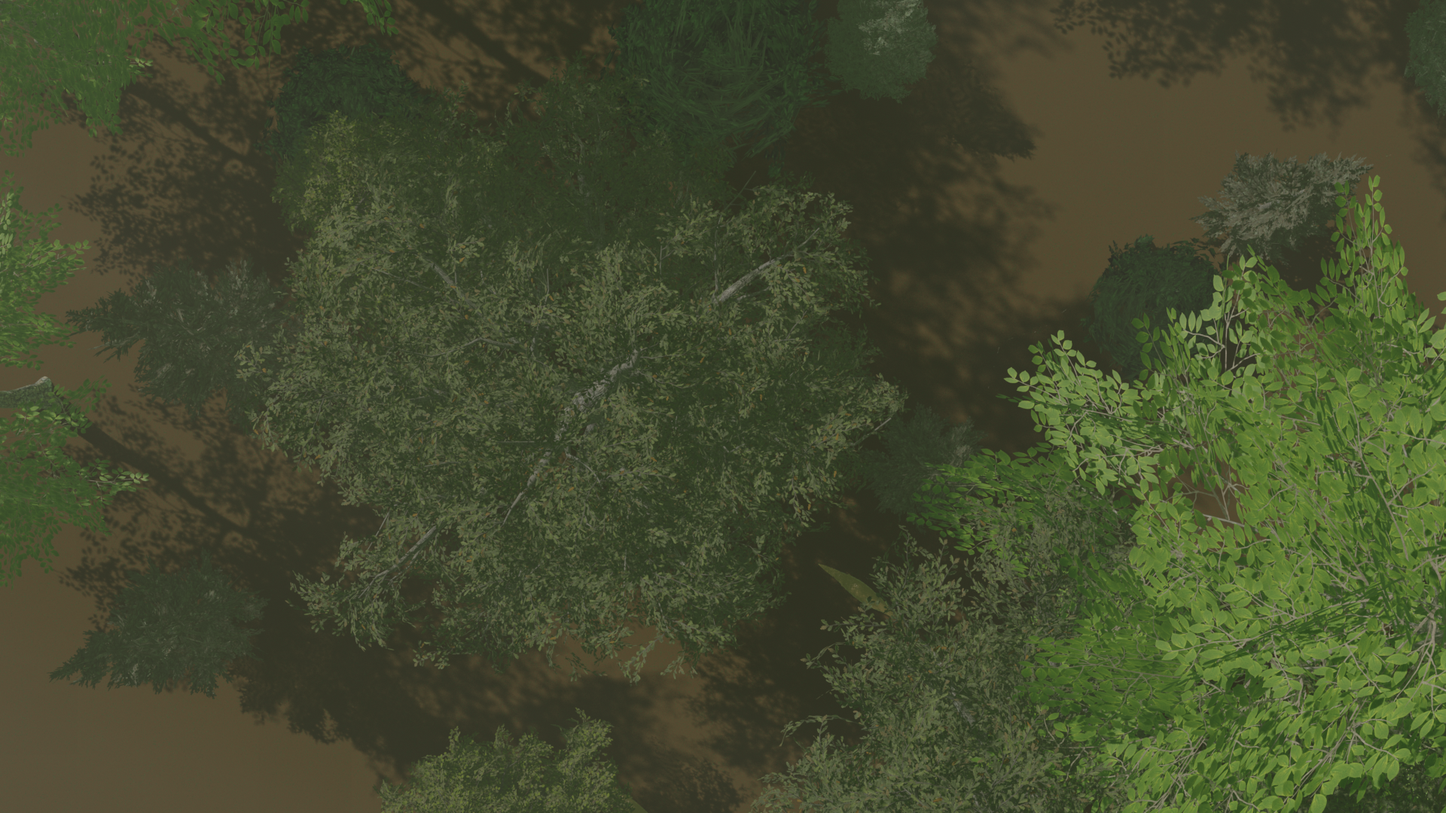pangolin: (811, 557, 932, 641), (601, 775, 692, 813)
